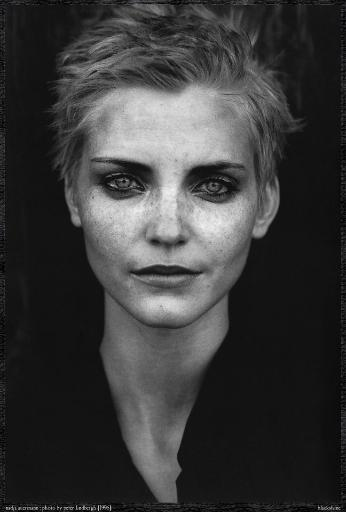left_eye: (192, 174, 242, 205)
left_lip_corner: (193, 265, 208, 287)
right_eye: (98, 170, 148, 200)
right_lip_corner: (128, 264, 144, 288)
